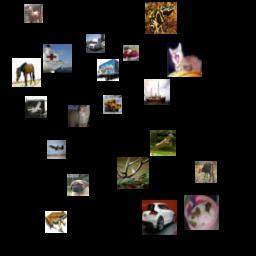airplane: (25, 96, 47, 118), (47, 140, 66, 159)
automobile: (142, 200, 177, 235), (123, 45, 139, 61)
cat: (167, 42, 202, 77), (68, 105, 90, 127)
deer: (117, 157, 149, 189), (150, 130, 176, 156), (195, 161, 217, 183)
dog: (184, 195, 219, 230), (67, 174, 89, 196)
frog: (145, 2, 177, 34), (45, 211, 67, 233)
ship: (43, 44, 72, 73), (144, 79, 170, 105)
truck: (97, 59, 119, 81), (103, 95, 122, 114), (86, 34, 105, 53)
